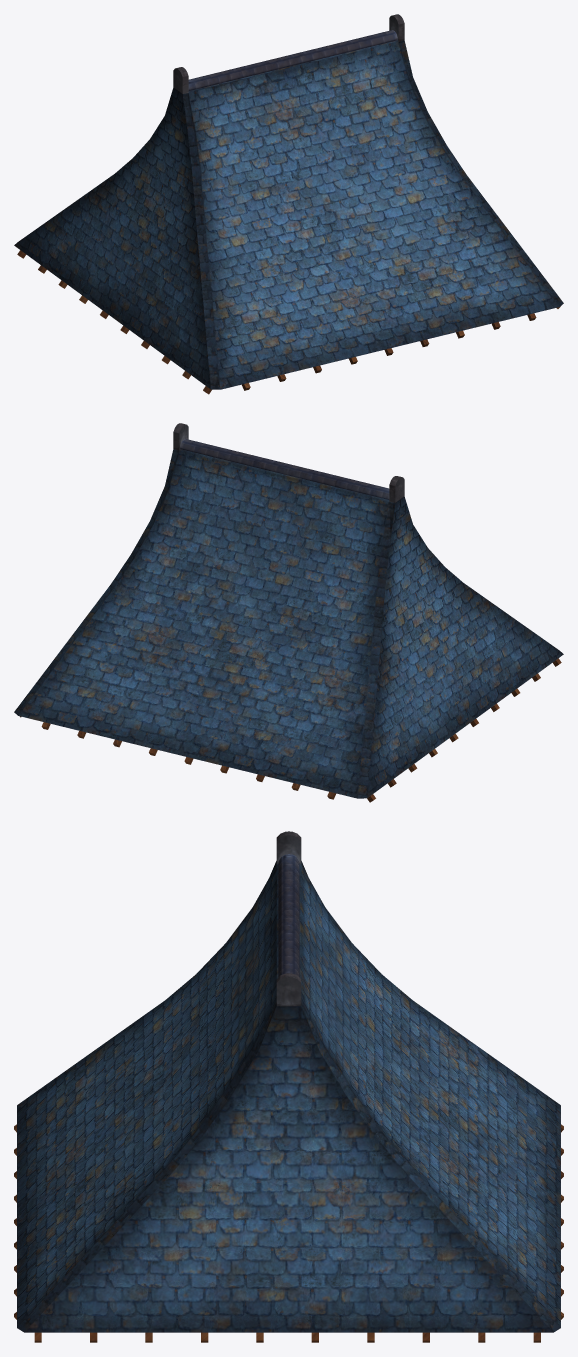
File: sb_obj_outdoor002_DemonsCastle01_roof00.fbx
3 renders of one model, top to bottom at view 1: azimuth 30°, elevation 25°; view 2: azimuth 150°, elevation 25°; view 3: azimuth 270°, elevation 25°, orthographic. The views are drawn at different scales.
Parts seen in each view (by area): view 1: sb_obj_outdoor002_DemonsCastle01_roof00; view 2: sb_obj_outdoor002_DemonsCastle01_roof00; view 3: sb_obj_outdoor002_DemonsCastle01_roof00.
Part boxes in pixels (<box>): sb_obj_outdoor002_DemonsCastle01_roof00: <box>14,14,563,394</box>; sb_obj_outdoor002_DemonsCastle01_roof00: <box>14,423,563,802</box>; sb_obj_outdoor002_DemonsCastle01_roof00: <box>14,831,563,1342</box>.
Size of the model in its own units: 9.98 by 6.44 by 9.92.
